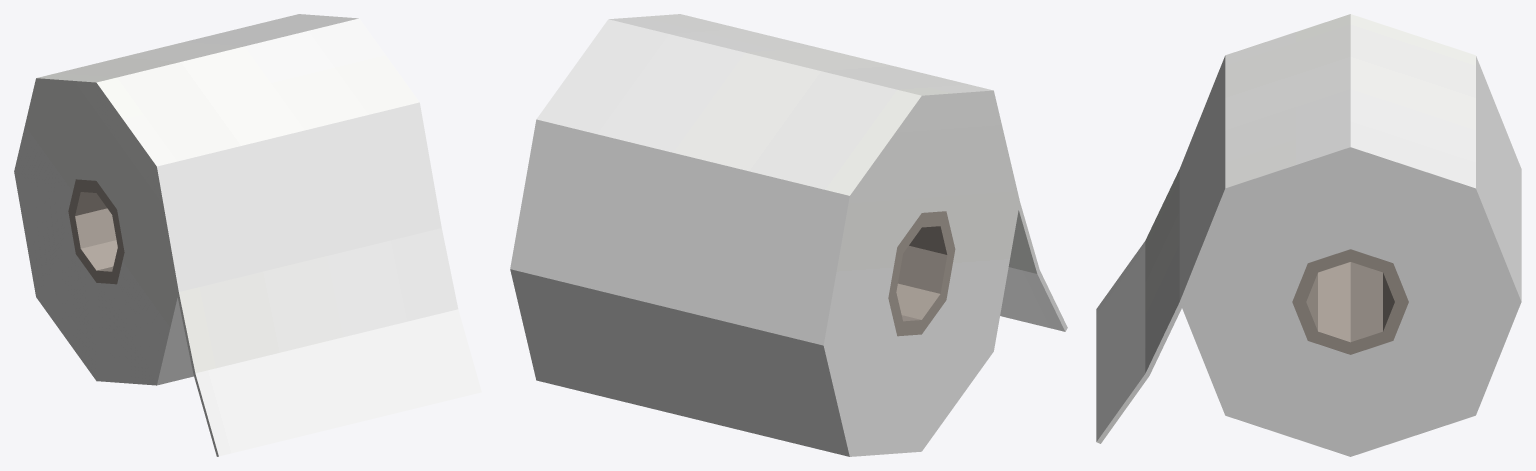
File: tpRoll.glb
3 views of the same model, side by side, from view 1: azimuth 30°, elevation 25°; view 2: azimuth 150°, elevation 25°; view 3: azimuth 270°, elevation 25° (orthographic). The views are drawn at different scales.
Visible parts, largest first — view 1: Cube_Cube.001; view 2: Cube_Cube.001; view 3: Cube_Cube.001.
Part boxes in pixels (x1,y1,x2,y2): Cube_Cube.001: (14, 14, 481, 456); Cube_Cube.001: (510, 14, 1067, 456); Cube_Cube.001: (1096, 14, 1521, 456).
Bounding box in the file's own units: 0.8967 × 0.9731 × 1.21.
1 material, 1 textured.
